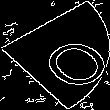O_NW: (9, 22, 101, 88)
